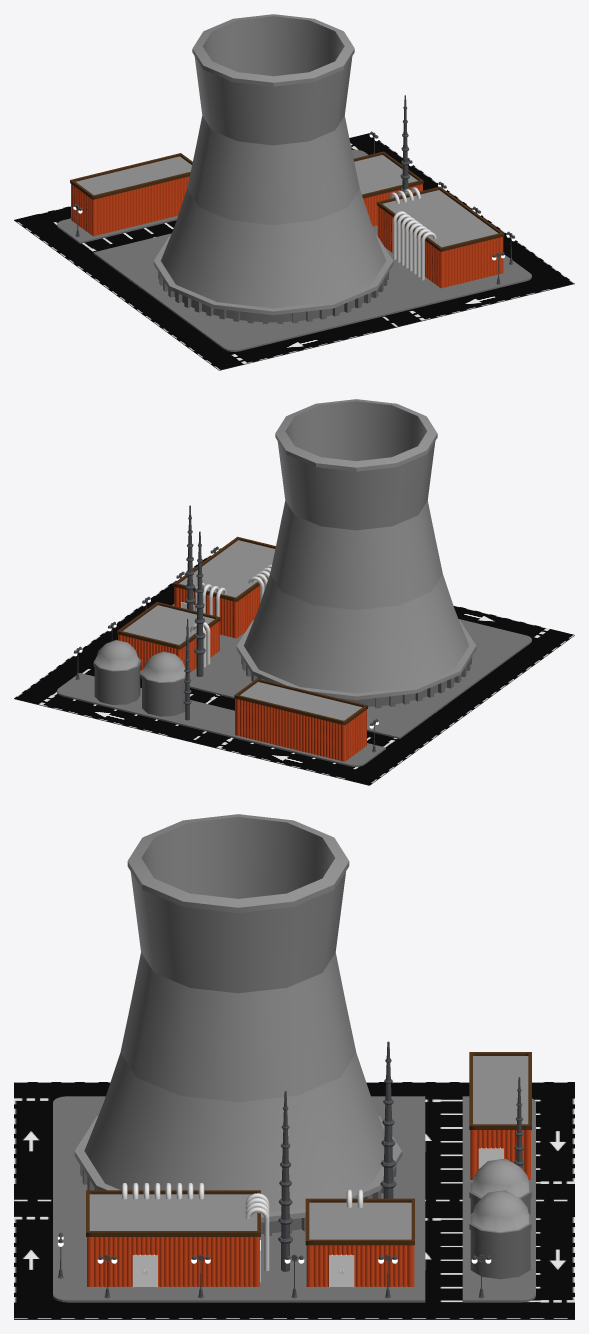
File: PowerPlant.glb
3 views of the same model, one above another, from view 1: azimuth 30°, elevation 25°; view 2: azimuth 150°, elevation 25°; view 3: azimuth 270°, elevation 25° (orthographic). The views are drawn at different scales.
Parts seen in each view (by area): view 1: Circle, Fact; view 2: Circle, Fact; view 3: Circle, Fact.
Part boxes in pixels (box(x1,y1,x2,y2)): Circle: box(70, 14, 504, 323); Fact: box(14, 131, 574, 370); Circle: box(93, 399, 476, 761); Fact: box(14, 546, 574, 785); Circle: box(74, 814, 531, 1287); Fact: box(14, 1082, 574, 1319).
Size of the model in its own units: 6 by 3.73 by 6.
Materials: 9 (1 with a texture image).
